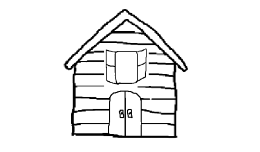door: (106, 88, 145, 142)
open_window: (103, 47, 153, 87)
roof: (64, 9, 188, 72)
wall: (69, 20, 179, 140)
